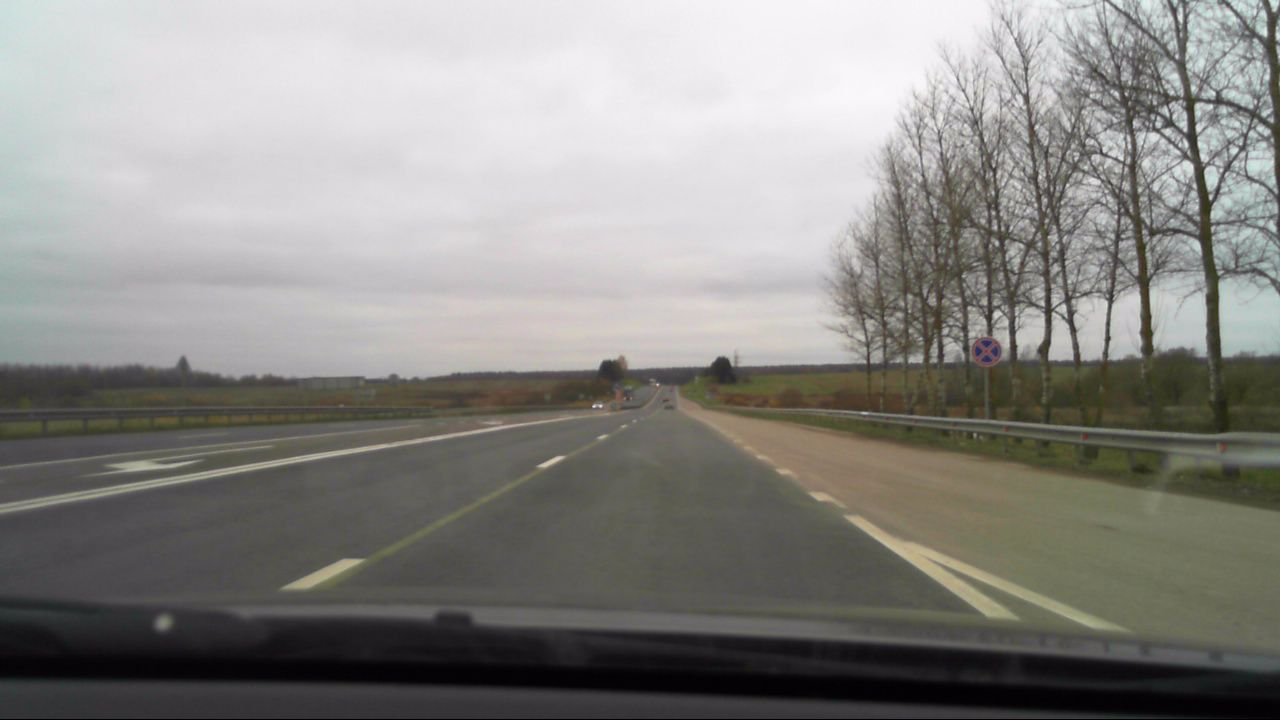No Parking: (969, 335, 1004, 370)
